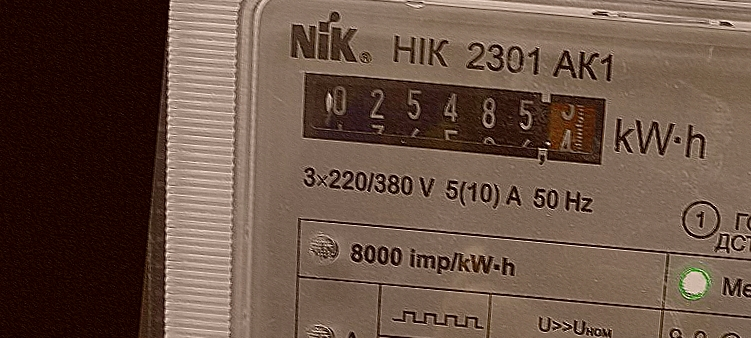0: (326, 81, 350, 118)
2: (365, 85, 388, 121)
4: (438, 88, 462, 124), (555, 125, 576, 155)
5: (513, 95, 537, 134), (401, 85, 424, 122)
8: (477, 92, 500, 132)
screen: (288, 62, 616, 177)
